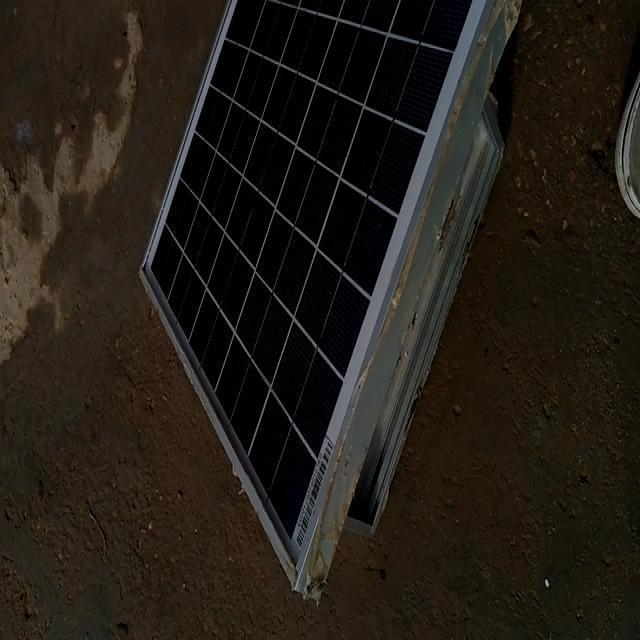Normal Solar Panel: (145, 0, 495, 568)
